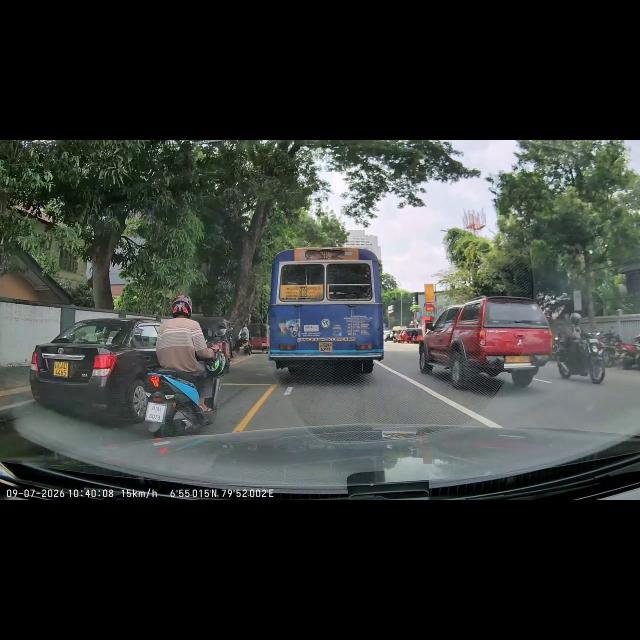bus: (274, 248, 378, 358)
car: (40, 326, 140, 406), (426, 306, 536, 378)
helmet: (168, 298, 194, 318)
motorcycle: (160, 374, 218, 420)
number_plate: (144, 405, 166, 423), (49, 362, 70, 380), (318, 342, 332, 354)
person: (165, 297, 202, 385)
solid_line: (388, 392, 482, 436)
